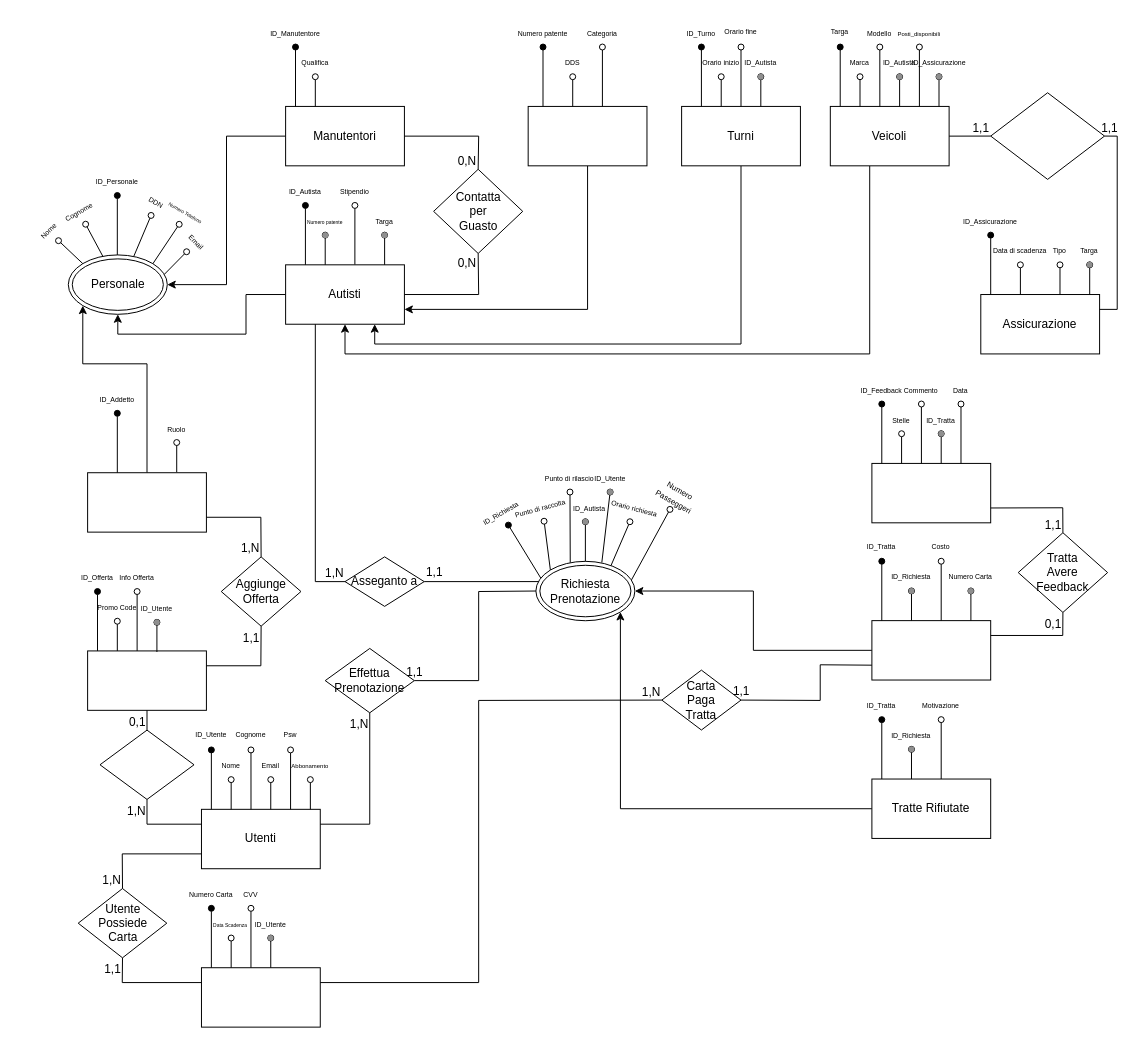
The diagram is 1138 pixels wide and 1044 high, and some of its shapes have lost their labels. The shapes that lost their labels are listed below. From the top down, each one's box as (x1, y1, x2, y2) in pixels, then its label:
(527, 105, 647, 166): Patente
(990, 92, 1105, 179): Veicolo Possiede Assicurazione
(87, 472, 206, 532): Addetti Marketing
(871, 462, 991, 523): Feedback
(871, 620, 991, 680): Tratte Complete
(87, 650, 206, 710): Offerte
(99, 729, 194, 799): Utente Ha Offerta
(200, 967, 320, 1027): Carta
